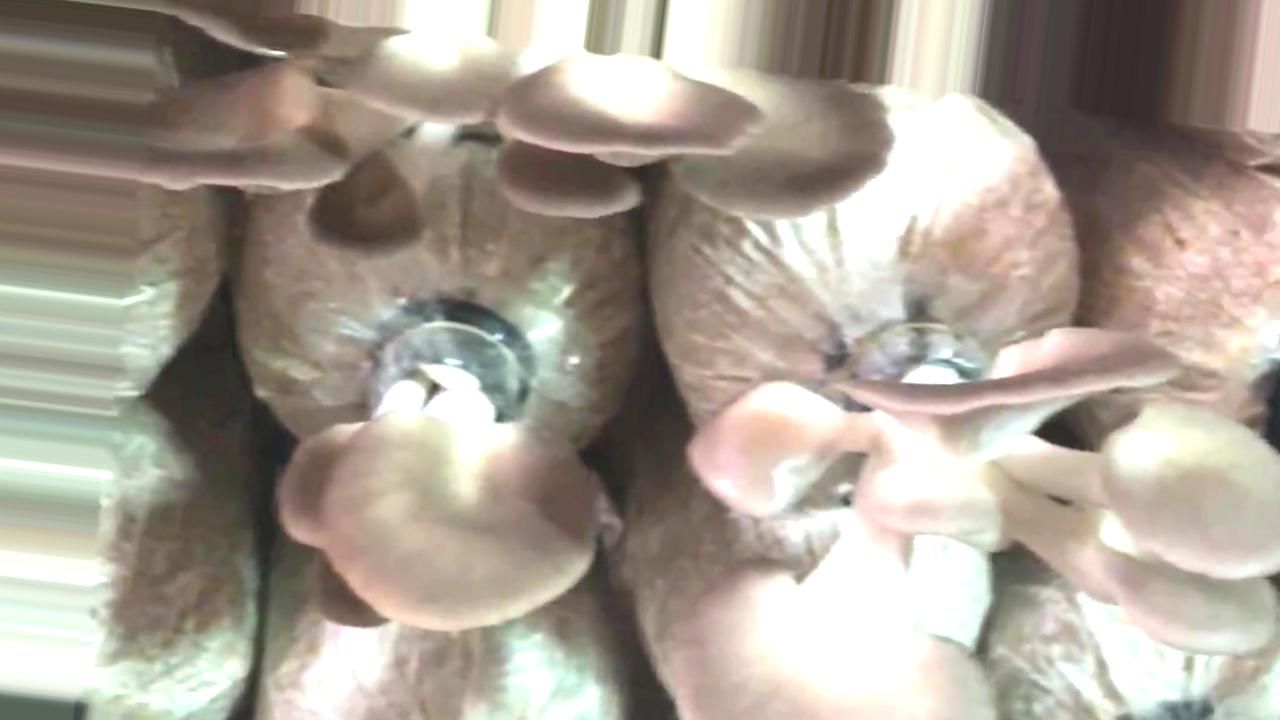nam: (668, 314, 1274, 720), (135, 5, 900, 264), (268, 289, 607, 645)
